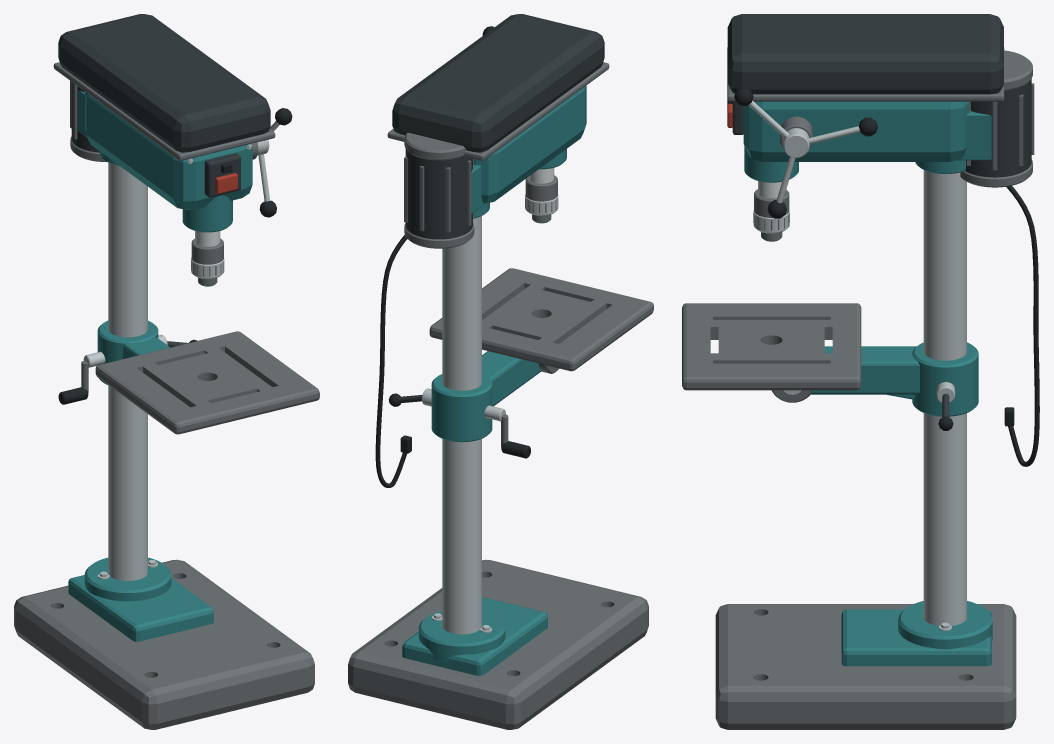
The model's file is city-floor-drill-press.glb.
The picture shows the model from 3 angles, left to right: view 1: azimuth 30°, elevation 25°; view 2: azimuth 150°, elevation 25°; view 3: azimuth 270°, elevation 25°; orthographic projection. The views are drawn at different scales.
Visible parts, largest first — view 1: Assembly | Grey cast iron, Assembly | Graphite painted frame, Assembly | Petrol workshop enamel, Assembly | Satin steel, Assembly | Black cable and rubber; view 2: Assembly | Grey cast iron, Assembly | Graphite painted frame, Assembly | Petrol workshop enamel, Assembly | Satin steel, Assembly | Black cable and rubber; view 3: Assembly | Grey cast iron, Assembly | Petrol workshop enamel, Assembly | Graphite painted frame, Assembly | Satin steel, Assembly | Black cable and rubber.
Boxes of the visible parts, box(x1,y1,x2,y2) form: Assembly | Grey cast iron: box(14, 62, 319, 729); Assembly | Graphite painted frame: box(58, 14, 270, 347); Assembly | Petrol workshop enamel: box(68, 90, 252, 641); Assembly | Satin steel: box(83, 121, 279, 580); Assembly | Black cable and rubber: box(58, 108, 292, 404); Assembly | Grey cast iron: box(348, 62, 653, 729); Assembly | Graphite painted frame: box(392, 14, 604, 403); Assembly | Petrol workshop enamel: box(402, 85, 586, 675); Assembly | Satin steel: box(422, 194, 558, 634); Assembly | Black cable and rubber: box(375, 26, 530, 487); Assembly | Grey cast iron: box(682, 47, 1034, 729); Assembly | Petrol workshop enamel: box(743, 101, 992, 666); Assembly | Graphite painted frame: box(727, 14, 1031, 417); Assembly | Satin steel: box(749, 100, 966, 631); Assembly | Black cable and rubber: box(727, 87, 1039, 466).
Size of the model in its own units: 0.49 by 1.63 by 0.8089.
